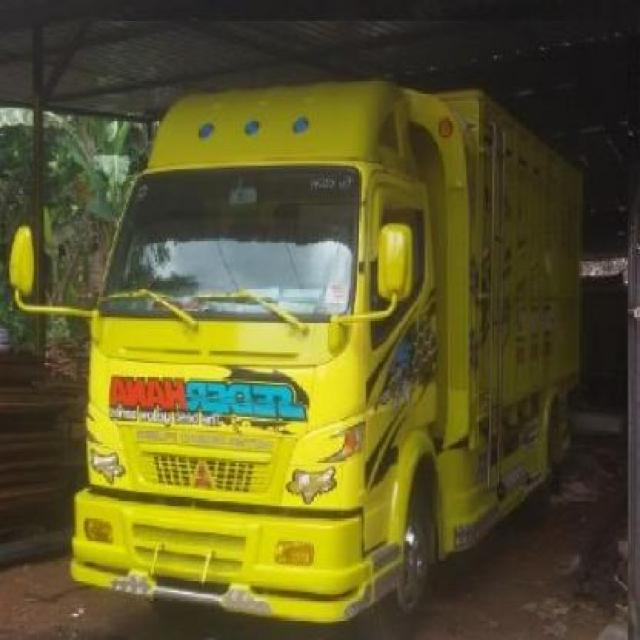truck: (16, 85, 579, 625)
